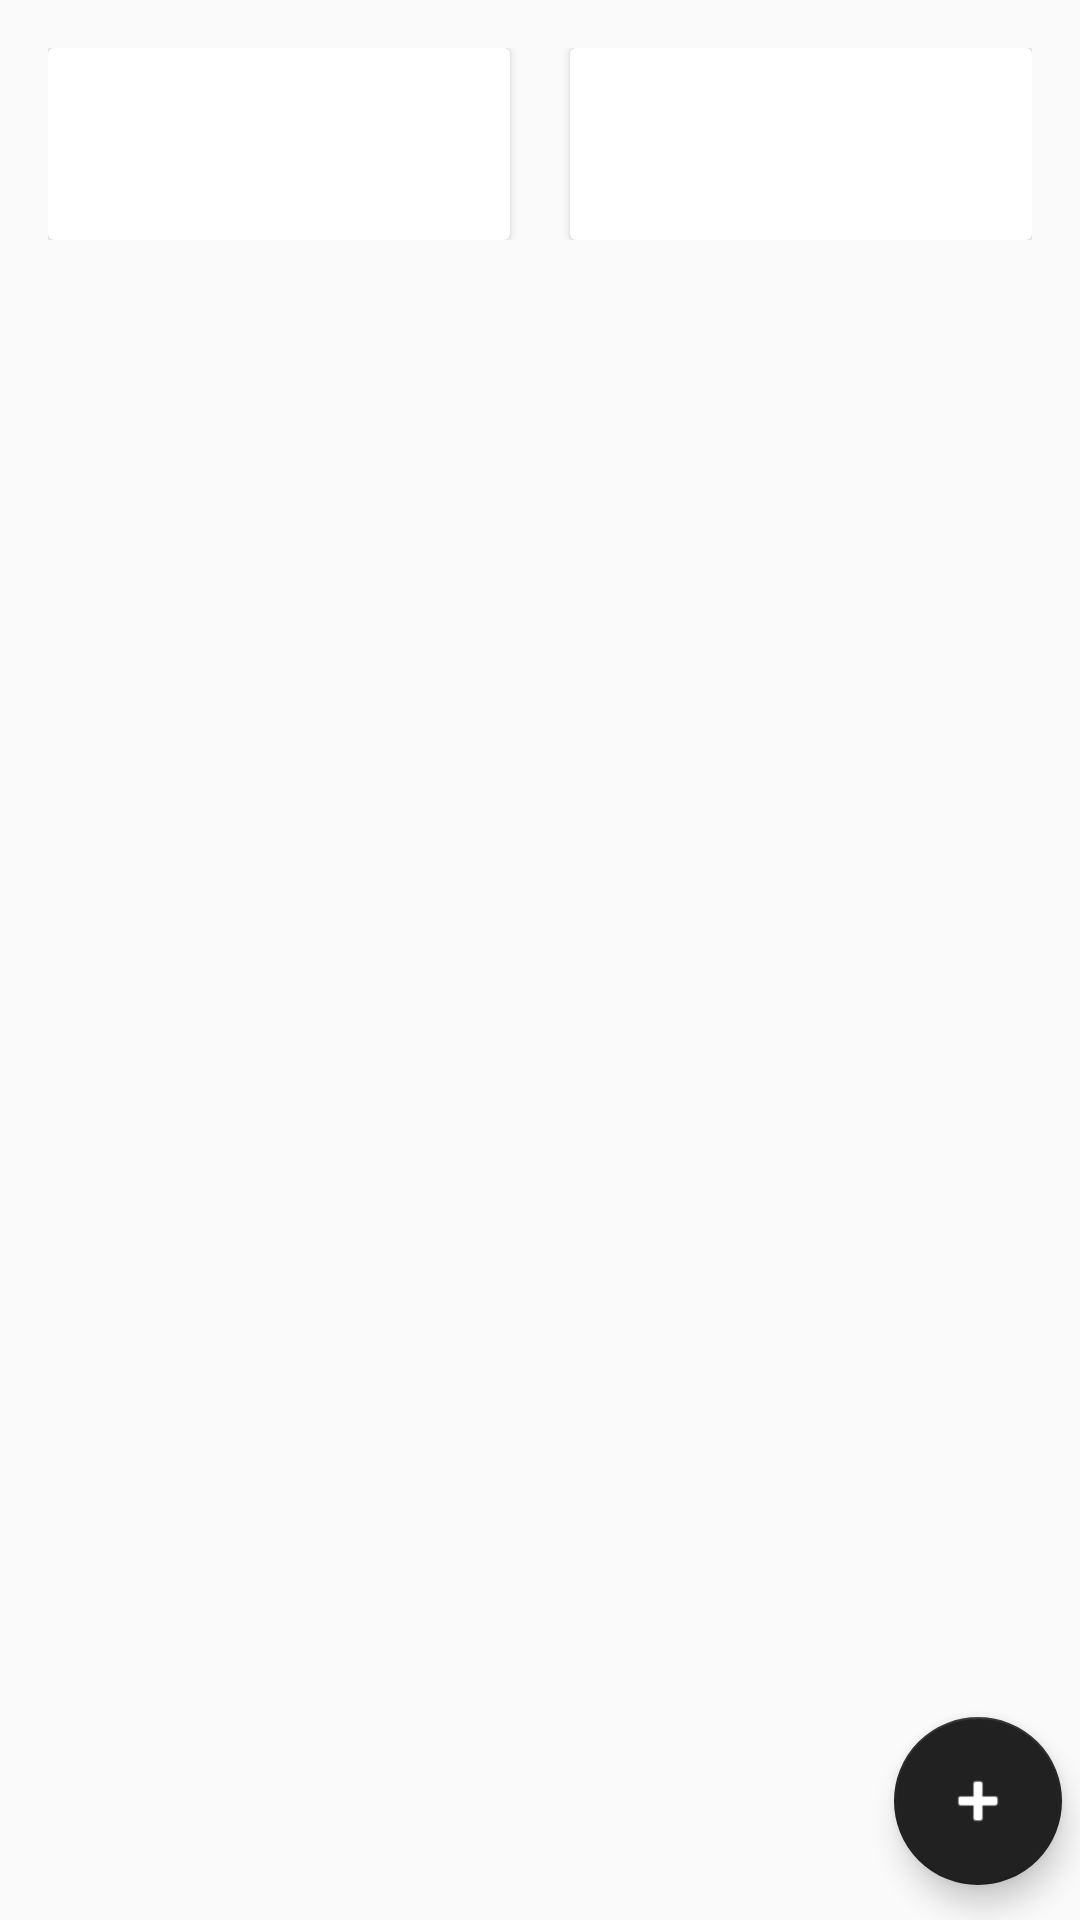

Icons on this 1080 x 1920 Android screen, each with its box as (x1, y1, x2, y2):
add: (894, 1717, 1062, 1885)
